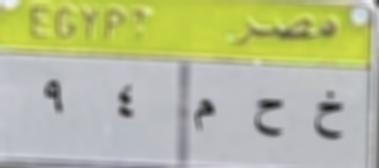4: (111, 80, 144, 123)
7aa: (244, 96, 292, 144)
9: (38, 74, 72, 118)
khaa: (311, 86, 348, 148)
meem: (186, 92, 224, 138)
